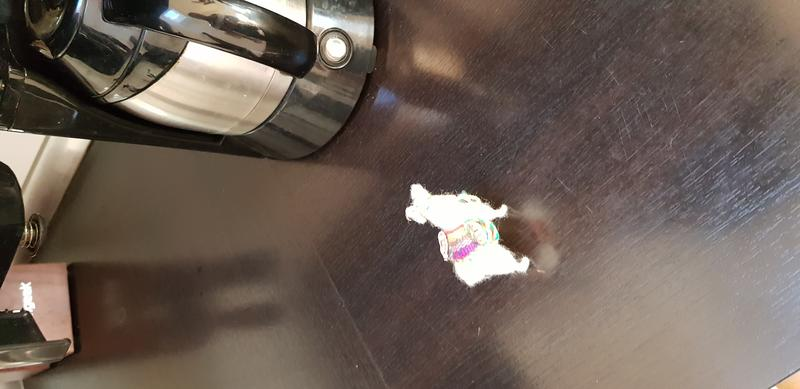Horse-Toy: (394, 175, 544, 294)
